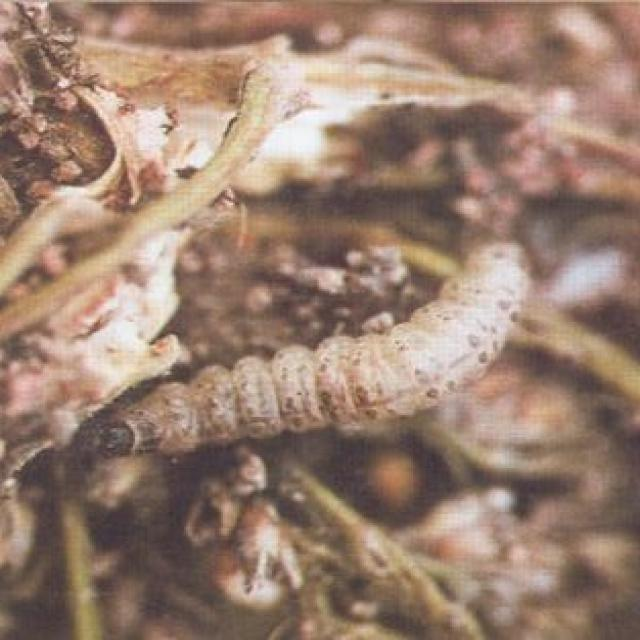peach borer: (78, 232, 534, 512)
